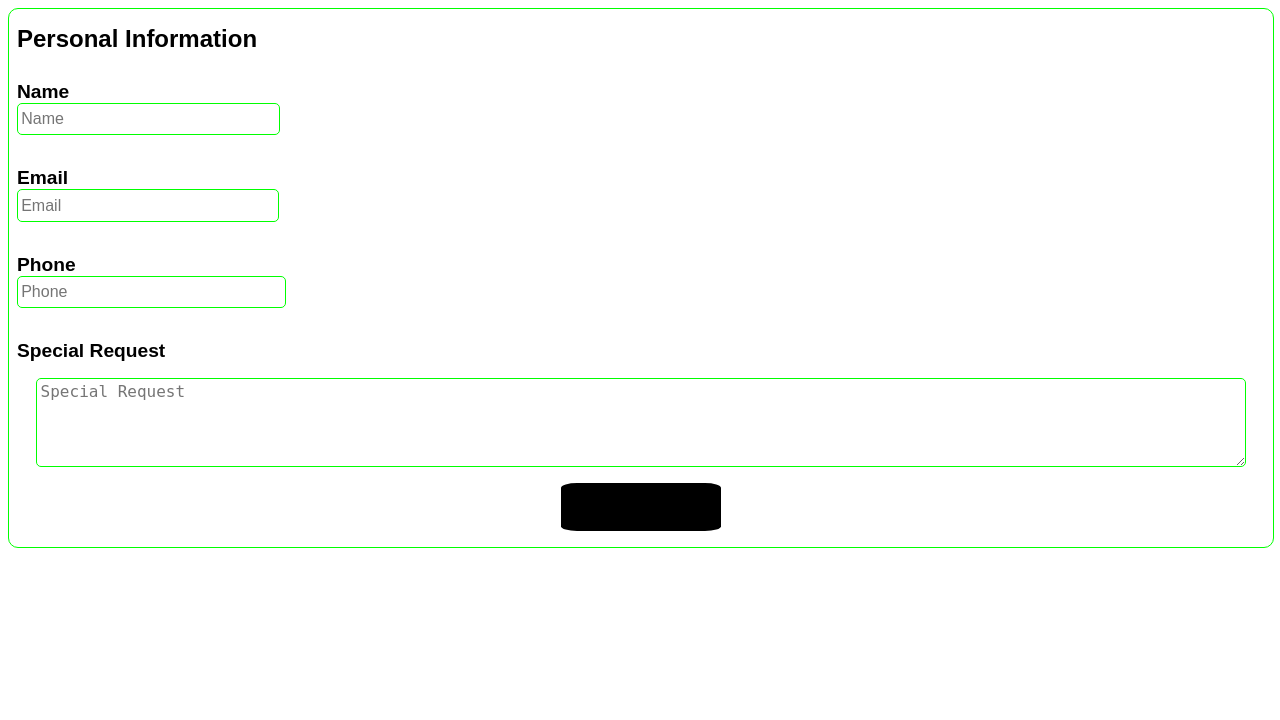
Test: ContactDetails component › closes the modal when clicking the close button
Type "John" into the field with placeholder "Name" at point(148, 119), box x1=17 y1=103 x2=280 y2=135
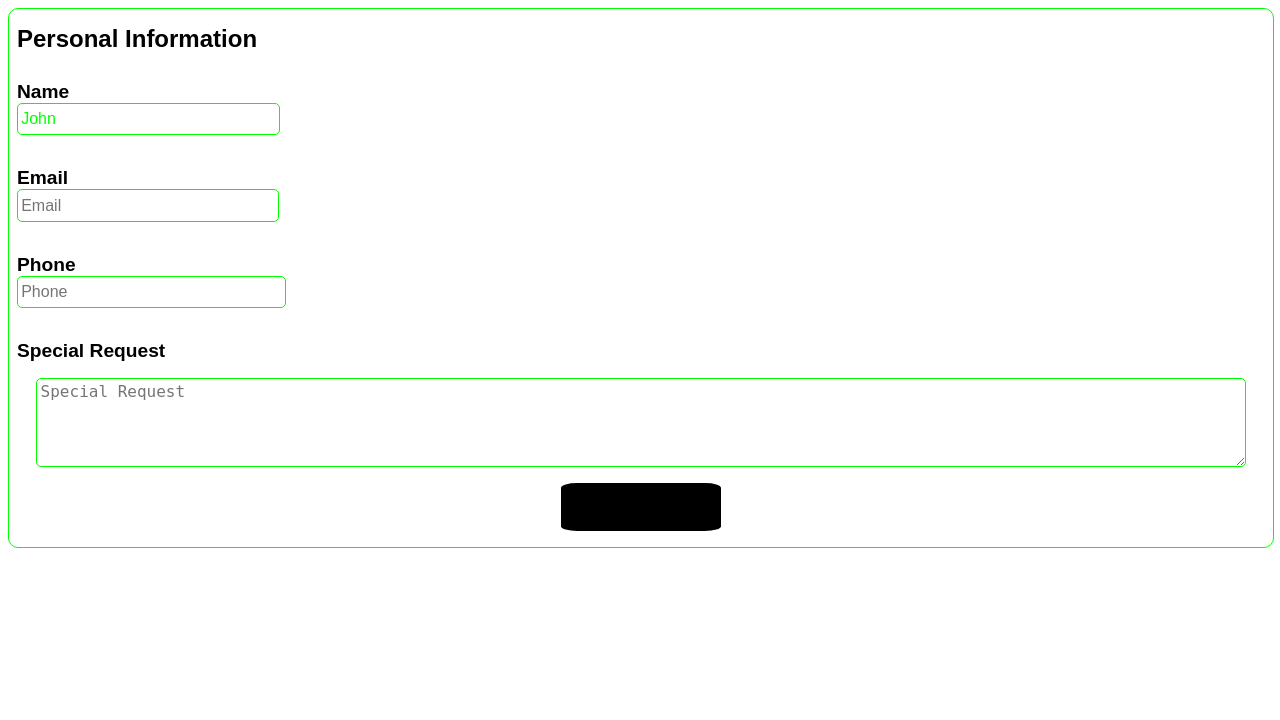
Type "johndoe@example.com" into the field with placeholder "Email" at point(148, 206), box x1=17 y1=189 x2=279 y2=222
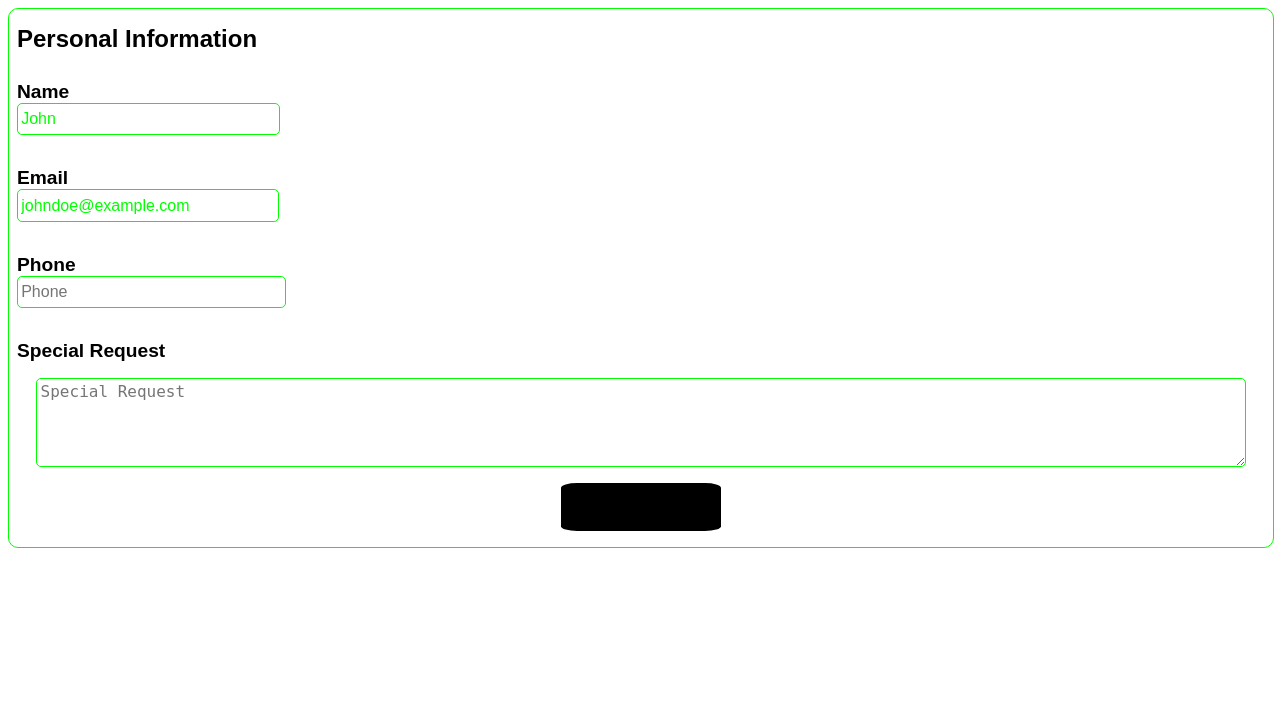
Type "1234567890" into the field with placeholder "Phone" at point(151, 292), box x1=17 y1=276 x2=286 y2=308
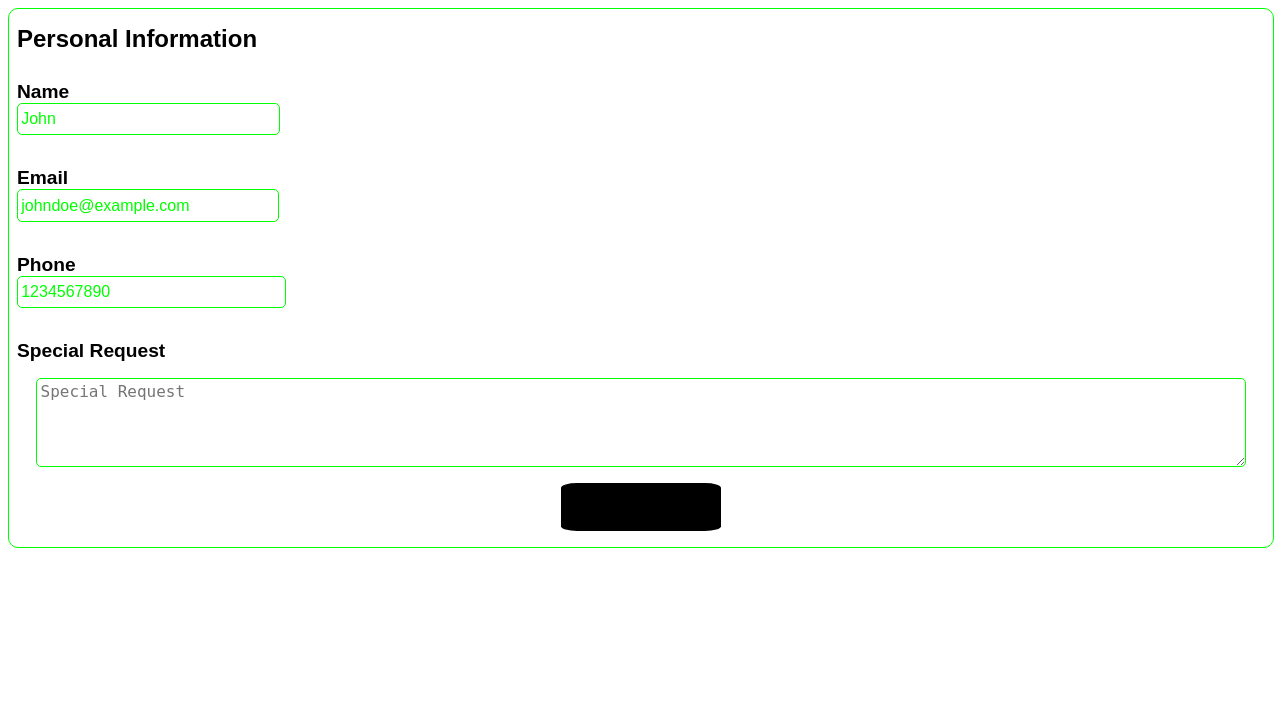
Click the button "Reserve" at point(641, 506), box x1=561 y1=482 x2=721 y2=530
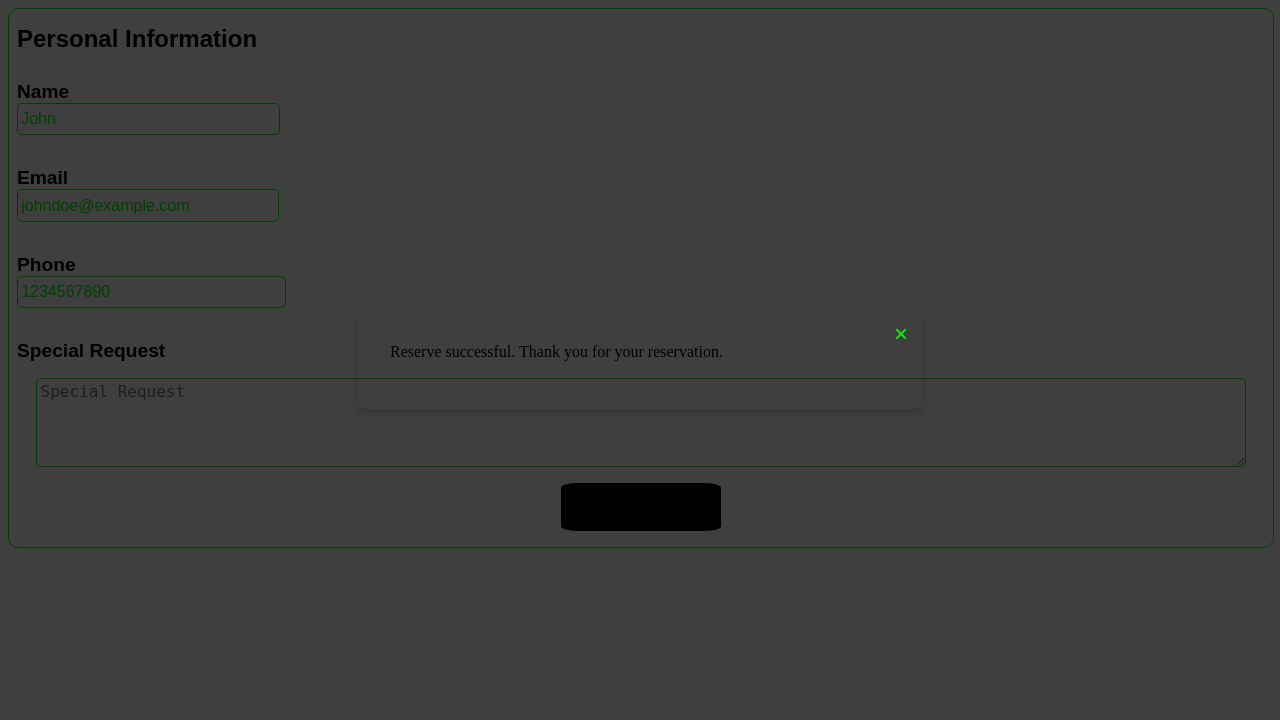
Check: the text "Reserve successful. Thank you for your reservation." is shown, box x1=390 y1=343 x2=723 y2=360
Click the button "×" at point(901, 334), box x1=888 y1=319 x2=914 y2=349
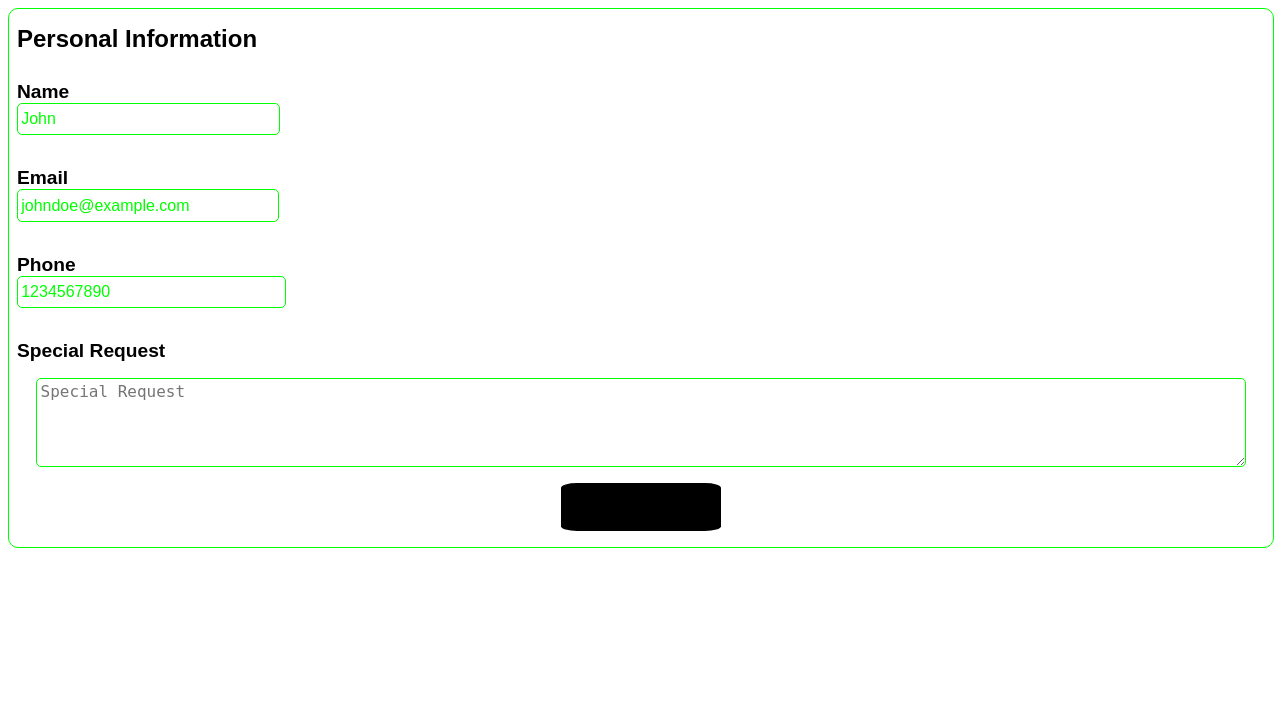
Check: the text "Reserve successful. Thank you for your reservation." is gone
